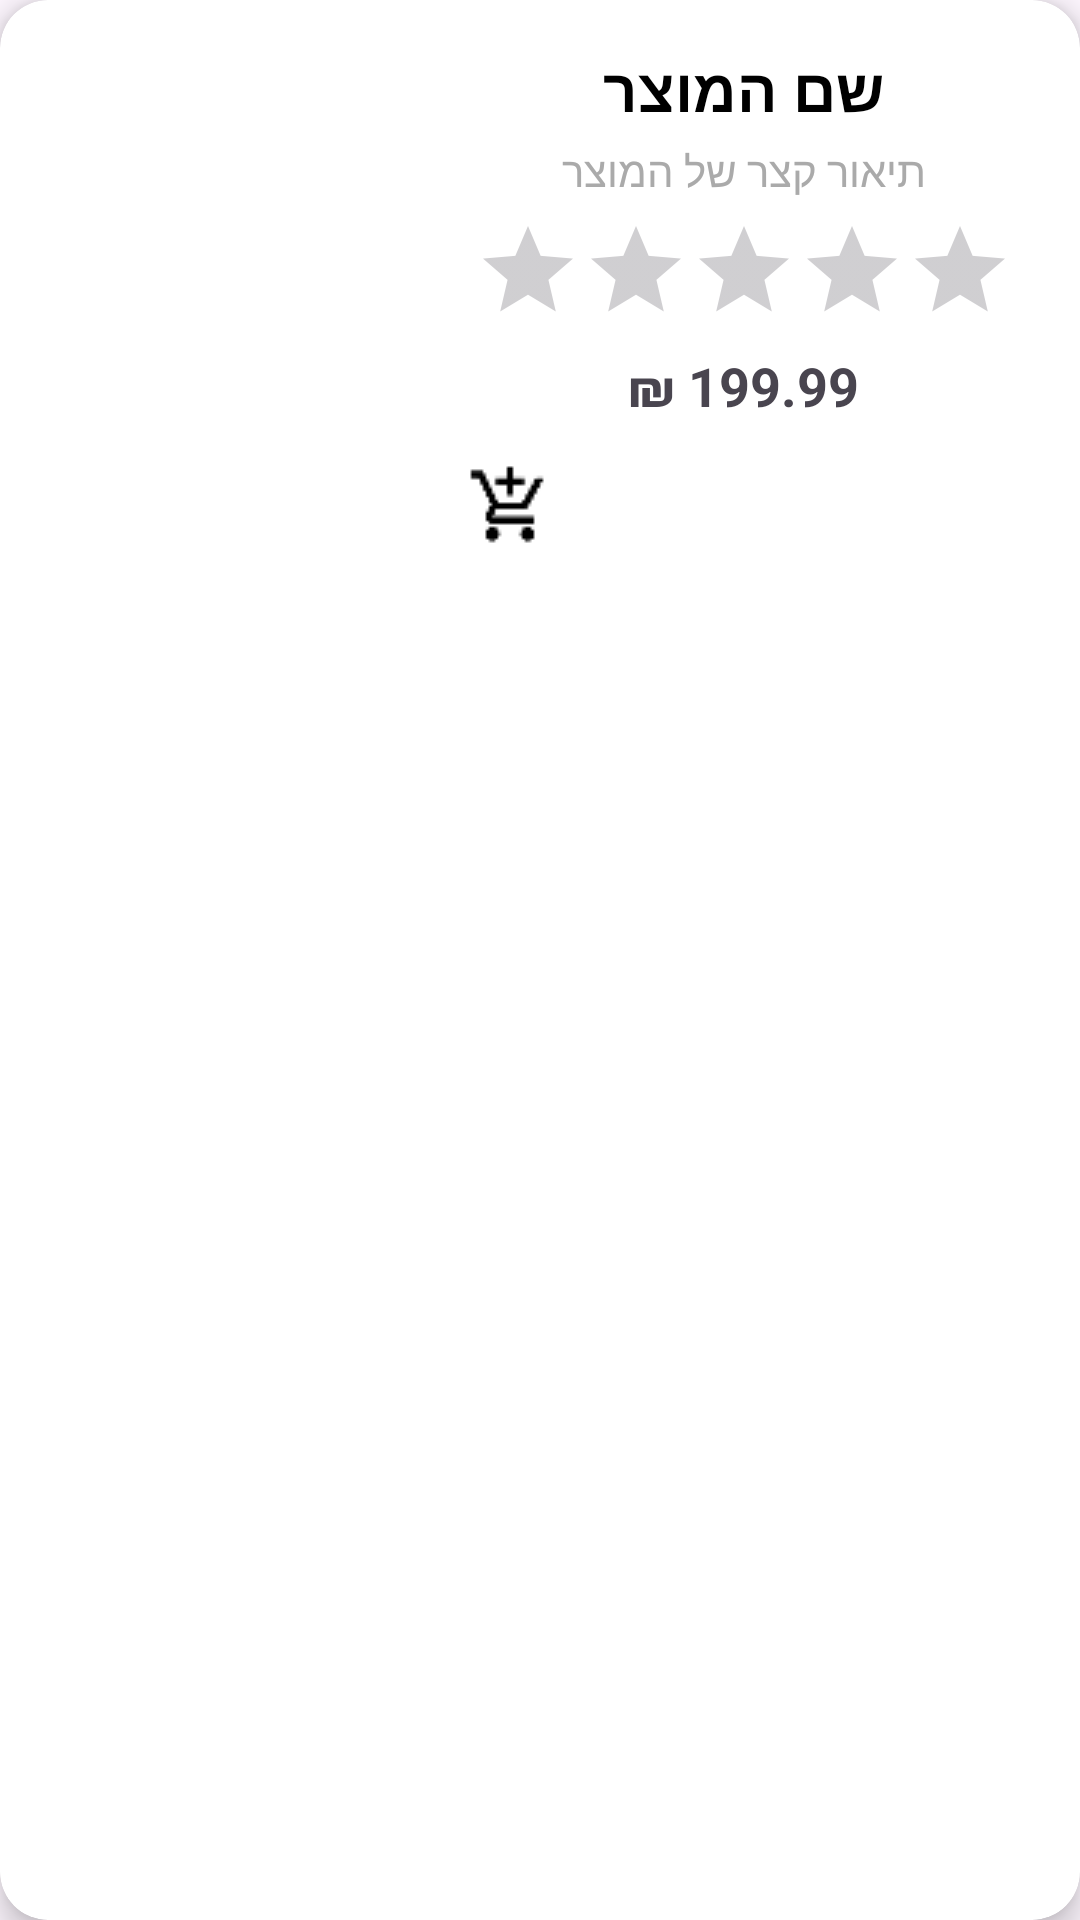

Screen size 1080w x 1920h. Icon name, then its center in pixels as point (x, y):
הוסף לעגלה: point (507, 504)
